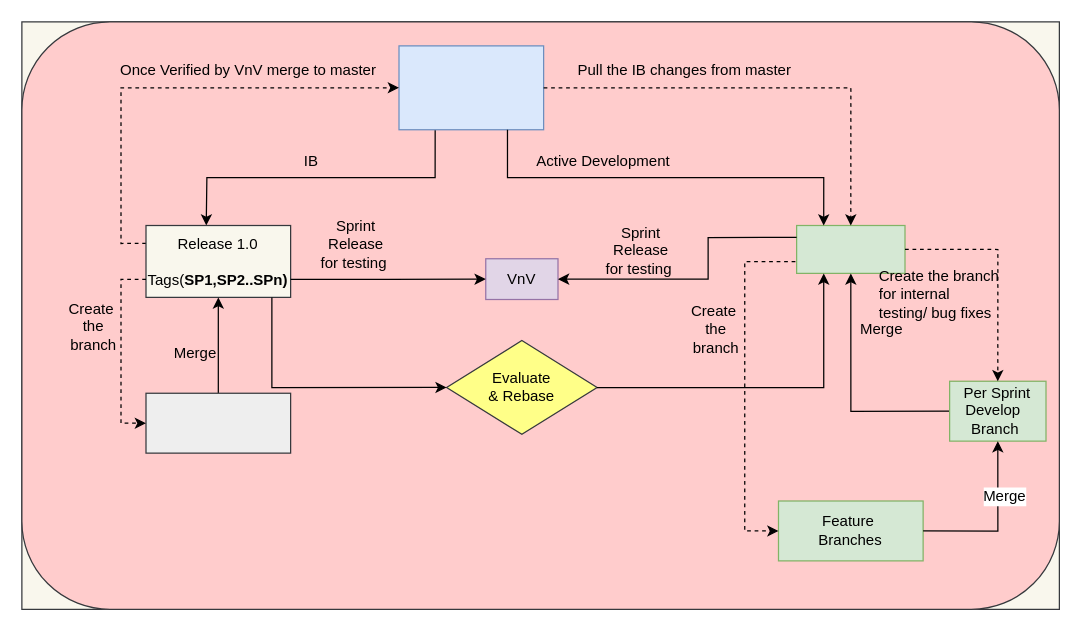
Image size: 1081x631. Some labels were removed from this diagram. Here are the shapes that lost their labels. From the top down, the box of each, then its label:
(398, 45, 544, 130): Master Tags( 1.0,1.1,1.2 ....)
(795, 224, 905, 273): Release 1.2
(145, 392, 291, 453): Develop Branch : SP2
